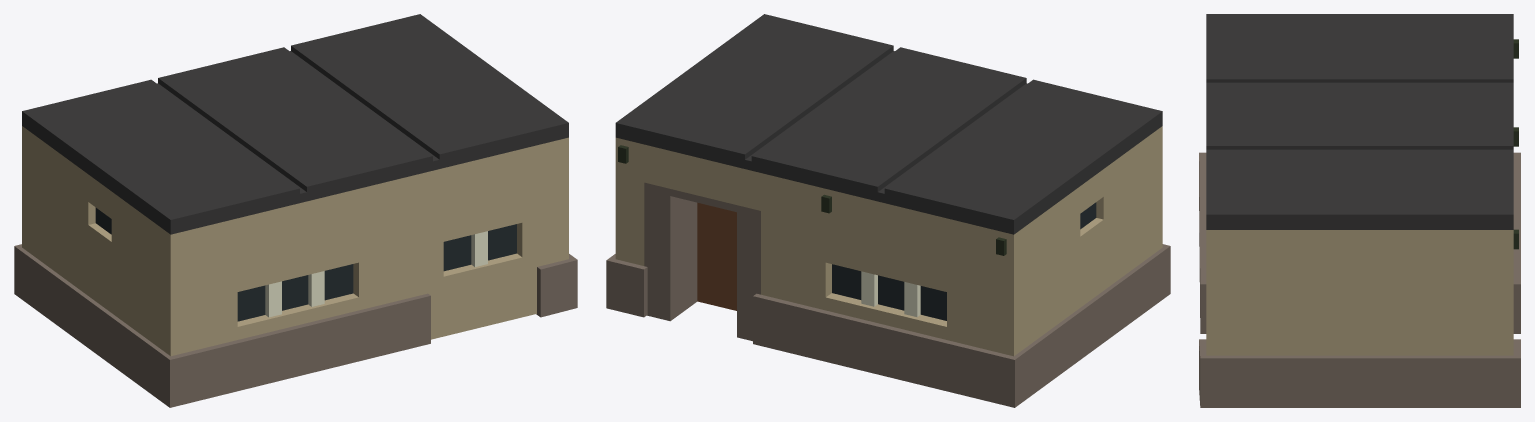
The model's file is barrack3.fbx.
The picture shows the model from 3 angles, left to right: view 1: azimuth 30°, elevation 25°; view 2: azimuth 150°, elevation 25°; view 3: azimuth 270°, elevation 25°; orthographic projection. The views are drawn at different scales.
Parts seen in each view (by area): view 1: barrack3; view 2: barrack3; view 3: barrack3.
Boxes of the visible parts, x1,y1,x2,y2 form: barrack3: (14,14,577,407); barrack3: (606,14,1170,407); barrack3: (1199,14,1520,407).
Bounding box in the file's own units: 701 × 304 × 463.
